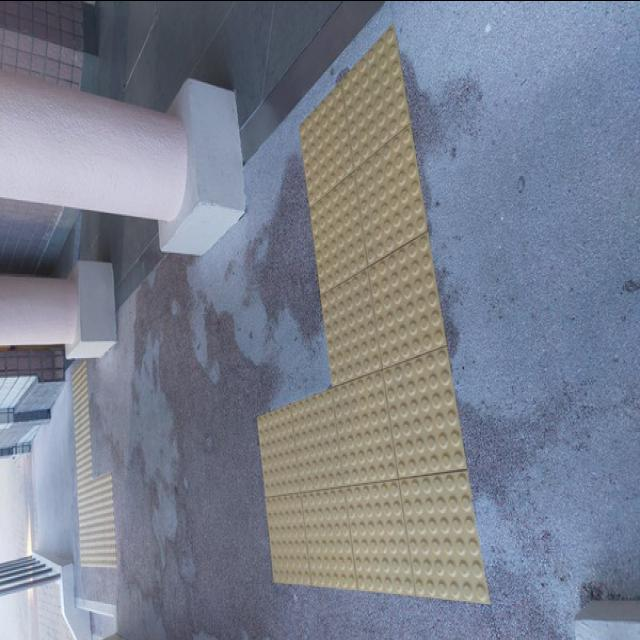tactile-guide-path: (256, 33, 490, 603), (66, 358, 116, 572)
